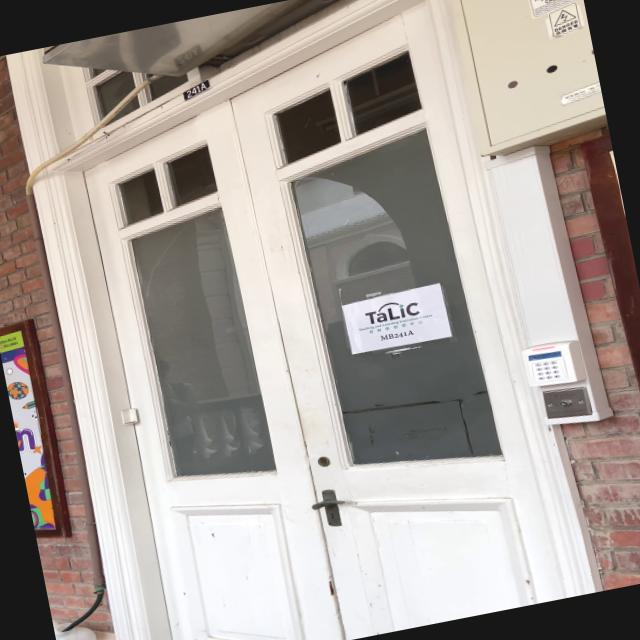room241a: (178, 78, 215, 102)
